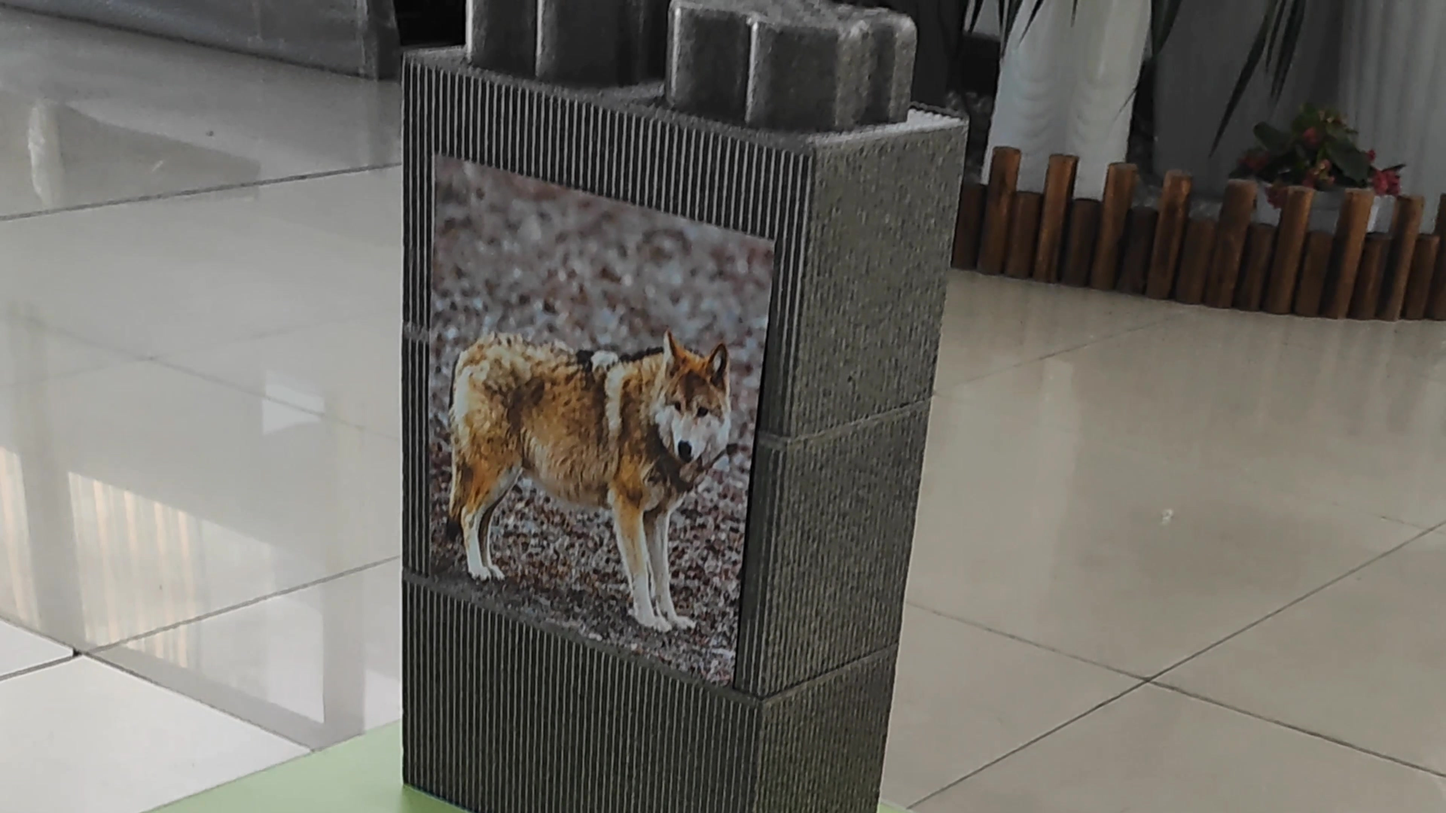wolf: (426, 274, 741, 649)
